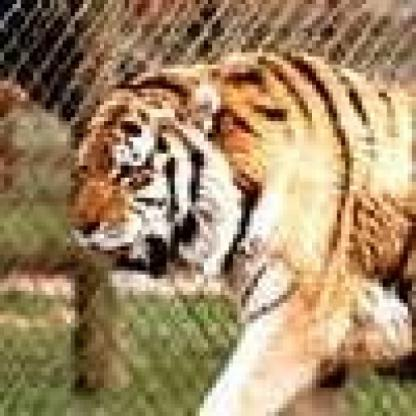Tiger: (40, 30, 415, 370)
